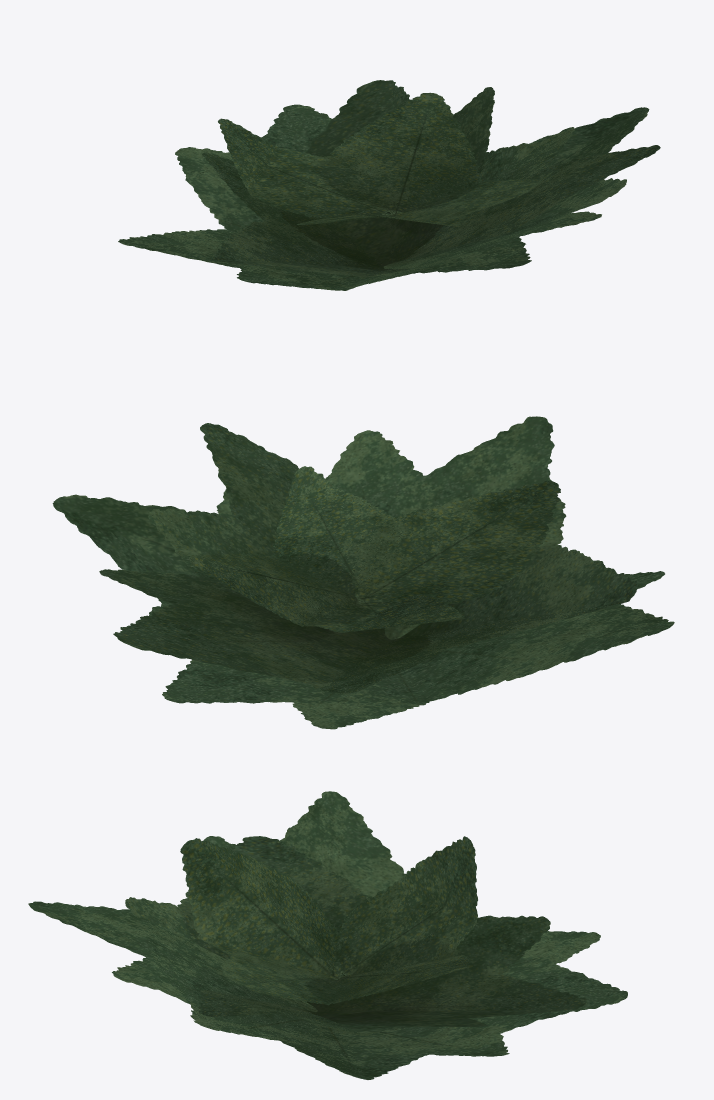
File: BushLeaves2.fbx
3 renders of one model, top to bottom at view 1: azimuth 30°, elevation 25°; view 2: azimuth 150°, elevation 25°; view 3: azimuth 270°, elevation 25°, orthographic. The views are drawn at different scales.
Parts seen in each view (by area): view 1: Plane.001, Plane, Plane.002; view 2: Plane.001, Plane.002, Plane; view 3: Plane, Plane.002, Plane.001.
Part boxes in pixels (left/top/right/bottom): Plane.001: left=202, top=80, right=660, bottom=277; Plane: left=218, top=92, right=552, bottom=226; Plane.002: left=118, top=104, right=649, bottom=290; Plane.001: left=99, top=423, right=637, bottom=694; Plane.002: left=52, top=416, right=674, bottom=729; Plane: left=189, top=466, right=560, bottom=632; Plane: left=180, top=836, right=477, bottom=1005; Plane.002: left=28, top=791, right=627, bottom=1079; Plane.001: left=125, top=836, right=586, bottom=1035.
Bounding box in the file's own units: 85.41 × 24.53 × 80.43.
